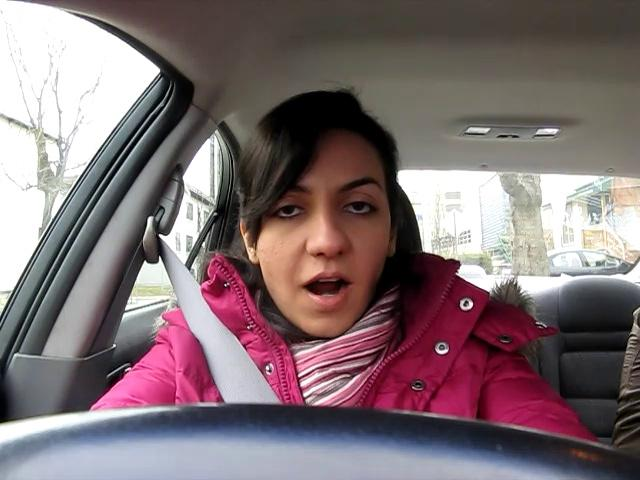close_eyeL: (258, 196, 317, 230)
close_eyeR: (329, 195, 392, 226)
yawn: (284, 262, 368, 313)
